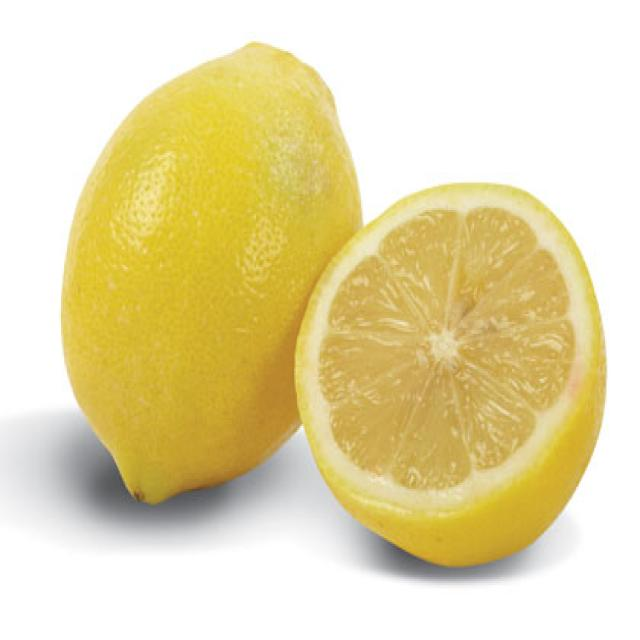lemon: (54, 32, 358, 542), (295, 185, 605, 566)
